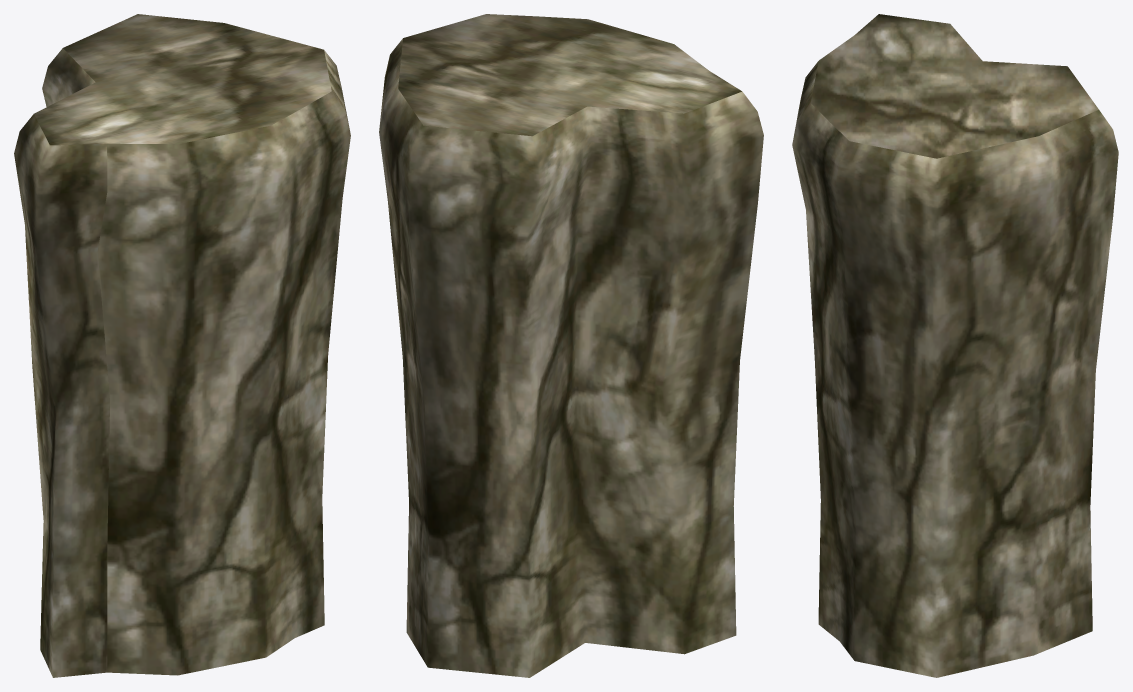
The model's file is CB_PLATFORM02.fbx.
3 views of the same model, side by side, from view 1: azimuth 30°, elevation 25°; view 2: azimuth 150°, elevation 25°; view 3: azimuth 270°, elevation 25° (orthographic). The views are drawn at different scales.
Visible parts, largest first — view 1: CB_PLATFORM02; view 2: CB_PLATFORM02; view 3: CB_PLATFORM02.
Boxes of the visible parts, box(x1,y1,x2,y2) form: CB_PLATFORM02: box(14, 14, 350, 677); CB_PLATFORM02: box(379, 14, 763, 677); CB_PLATFORM02: box(792, 14, 1118, 677).
Size of the model in its own units: 24172 by 36484 by 20682.
2 materials, 2 textured.
